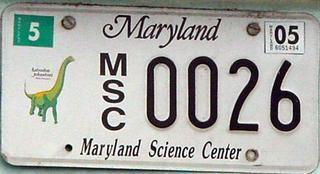placa de veiculo: (3, 2, 319, 174)
